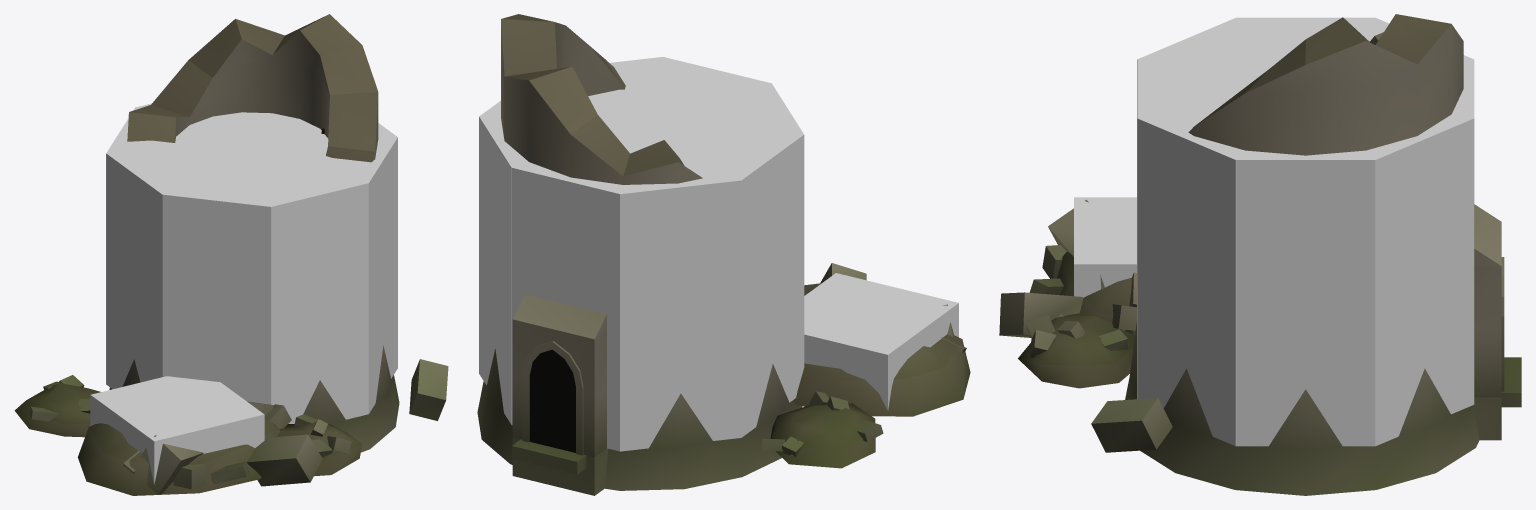
The model's file is castle_tower_ruin.glb.
The picture shows the model from 3 angles, left to right: view 1: azimuth 30°, elevation 25°; view 2: azimuth 150°, elevation 25°; view 3: azimuth 270°, elevation 25°; orthographic projection. The views are drawn at different scales.
Visible parts, largest first — view 1: castle_tower_ruin, COL_tower_3, COL_tower_2, COL_tower_1, COL_spill, COL_tower_4; view 2: castle_tower_ruin, COL_tower_4, COL_tower_1, COL_tower_3, COL_tower_2, COL_spill; view 3: castle_tower_ruin, COL_tower_1, COL_tower_2, COL_tower_4, COL_spill, COL_tower_3.
Boxes of the visible parts, x1,y1,x2,y2 form: castle_tower_ruin: [14, 14, 448, 495]; COL_tower_3: [136, 103, 368, 423]; COL_tower_2: [162, 112, 318, 404]; COL_tower_1: [106, 113, 397, 388]; COL_spill: [90, 376, 264, 484]; COL_tower_4: [106, 107, 397, 413]; castle_tower_ruin: [477, 14, 970, 495]; COL_tower_4: [588, 57, 741, 451]; COL_tower_1: [479, 90, 803, 437]; COL_tower_3: [511, 57, 770, 451]; COL_tower_2: [479, 83, 804, 424]; COL_spill: [804, 273, 958, 410]; castle_tower_ruin: [999, 14, 1521, 495]; COL_tower_1: [1235, 17, 1375, 446]; COL_tower_2: [1137, 18, 1473, 446]; COL_tower_4: [1137, 18, 1473, 445]; COL_spill: [1074, 197, 1136, 297]; COL_tower_3: [1137, 59, 1474, 404].
Bounding box in the file's own units: 9.72 × 9.2 × 9.92.
